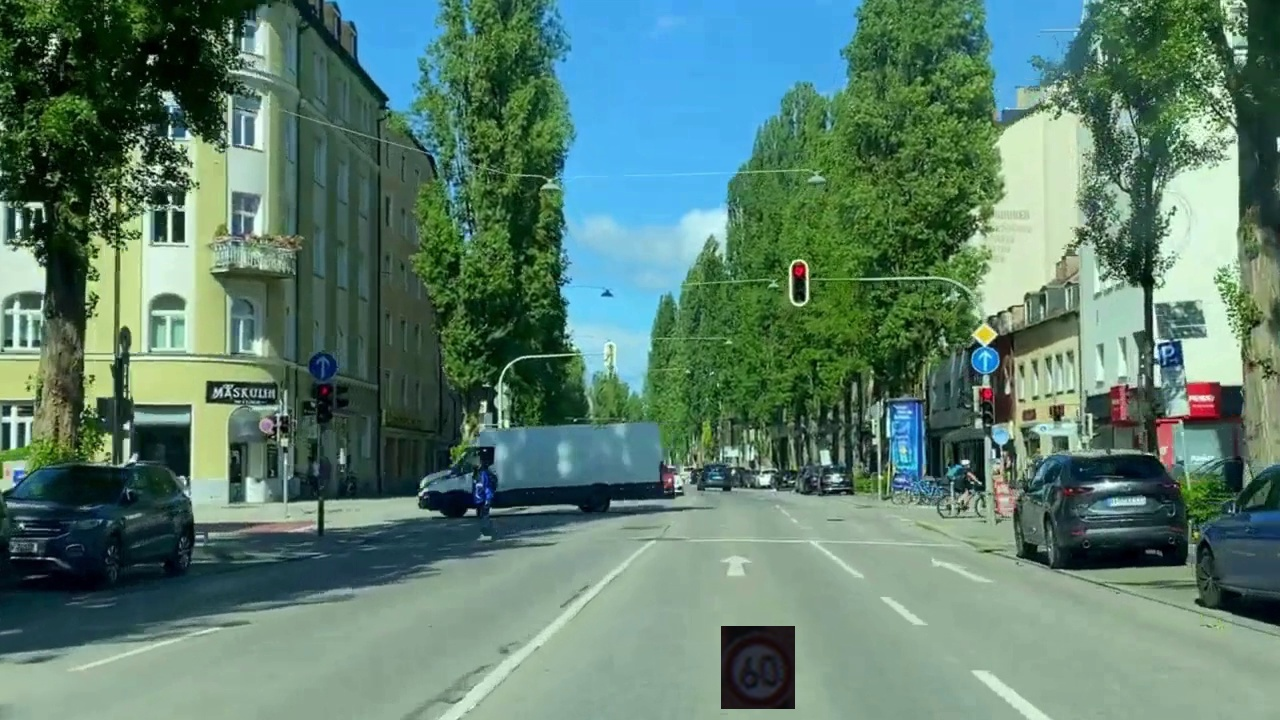Speed 60: (721, 626, 795, 709)
